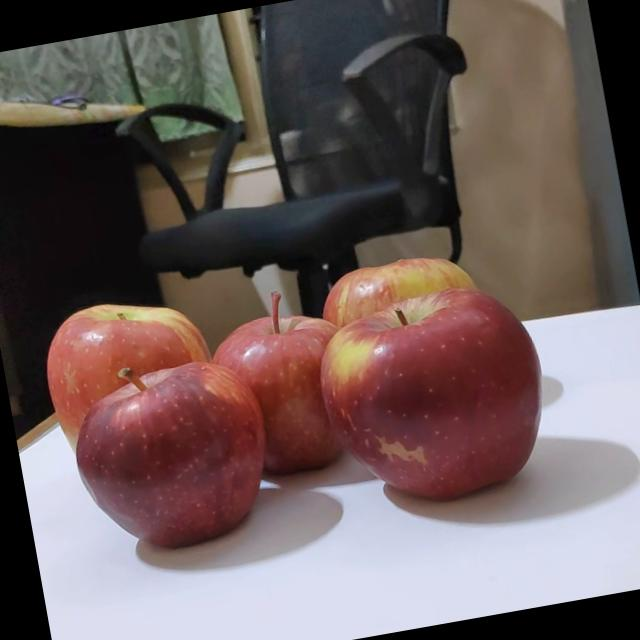apple: (297, 274, 559, 522), (50, 347, 274, 560), (183, 280, 365, 490), (32, 284, 226, 466), (310, 241, 500, 394)
